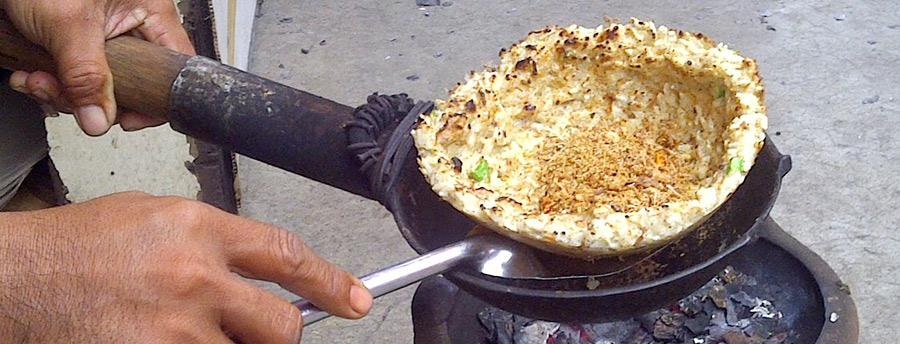kerak_telor: (413, 23, 771, 258)
